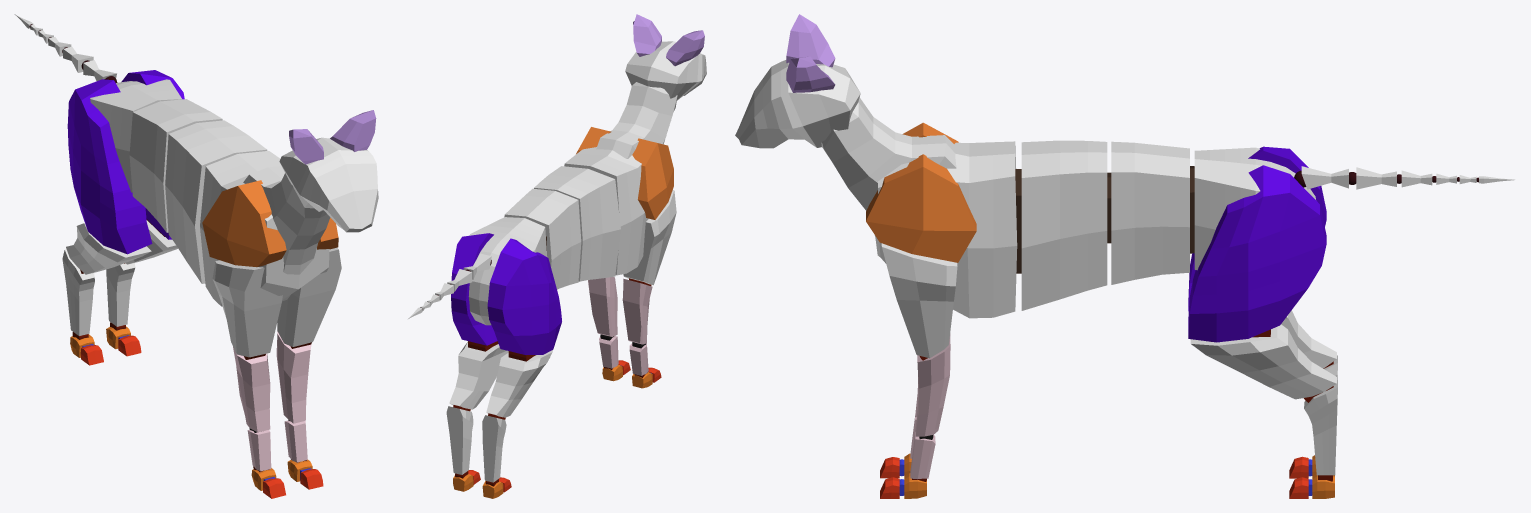
The model's file is karakter_kucing_v2_Rig.fbx.
The picture shows the model from 3 angles, left to right: view 1: azimuth 30°, elevation 25°; view 2: azimuth 150°, elevation 25°; view 3: azimuth 270°, elevation 25°; orthographic projection. The views are drawn at different scales.
Parts seen in each view (by area): view 1: Cube.006, Cube.003, Cube, Cube.043, Cube.034, Cube.002, Cube.010, Cube.001, Cube.033, Cube.004, Cube.032, Cube.011 (+9 smaller); view 2: Cube.006, Cube.003, Cube.034, Cube.002, Cube.001, Cube.004, Cube, Cube.043, Cube.028, Cube.027, Cube.007, Cube.010 (+8 smaller); view 3: Cube.028, Cube.003, Cube.034, Cube.002, Cube.044, Cube, Cube.001, Cube.033, Cube.027, Cube.004, Cube.013, Cube.032 (+4 smaller).
Part boxes in pixels (bbox=[...]): Cube.006: bbox=[67, 79, 152, 254]; Cube.003: bbox=[165, 120, 267, 283]; Cube: bbox=[279, 137, 378, 232]; Cube.043: bbox=[202, 180, 286, 267]; Cube.034: bbox=[129, 99, 222, 232]; Cube.002: bbox=[200, 151, 329, 306]; Cube.010: bbox=[212, 260, 282, 357]; Cube.001: bbox=[243, 166, 330, 290]; Cube.033: bbox=[277, 247, 341, 346]; Cube.004: bbox=[90, 79, 181, 192]; Cube.032: bbox=[276, 331, 311, 423]; Cube.011: bbox=[233, 347, 270, 432]; Cube.006: bbox=[487, 238, 561, 354]; Cube.003: bbox=[534, 166, 620, 281]; Cube.034: bbox=[504, 188, 581, 289]; Cube.002: bbox=[564, 131, 648, 275]; Cube.001: bbox=[596, 82, 677, 158]; Cube.004: bbox=[468, 217, 547, 325]; Cube: bbox=[625, 41, 706, 100]; Cube.043: bbox=[632, 138, 673, 219]; Cube.028: bbox=[451, 233, 497, 345]; Cube.027: bbox=[449, 341, 508, 409]; Cube.007: bbox=[486, 350, 552, 417]; Cube.010: bbox=[623, 190, 676, 285]; Cube.028: bbox=[1188, 165, 1326, 342]; Cube.003: bbox=[1021, 140, 1107, 310]; Cube.034: bbox=[1111, 141, 1189, 284]; Cube.002: bbox=[875, 141, 1017, 318]; Cube.044: bbox=[866, 154, 976, 262]; Cube: bbox=[735, 60, 860, 148]; Cube.001: bbox=[821, 97, 958, 237]; Cube.033: bbox=[881, 243, 957, 358]; Cube.027: bbox=[1190, 324, 1336, 399]; Cube.004: bbox=[1194, 147, 1315, 270]; Cube.013: bbox=[786, 14, 835, 92]; Cube.032: bbox=[915, 336, 950, 436].
Size of the model in its own units: 93 by 334 by 527.
